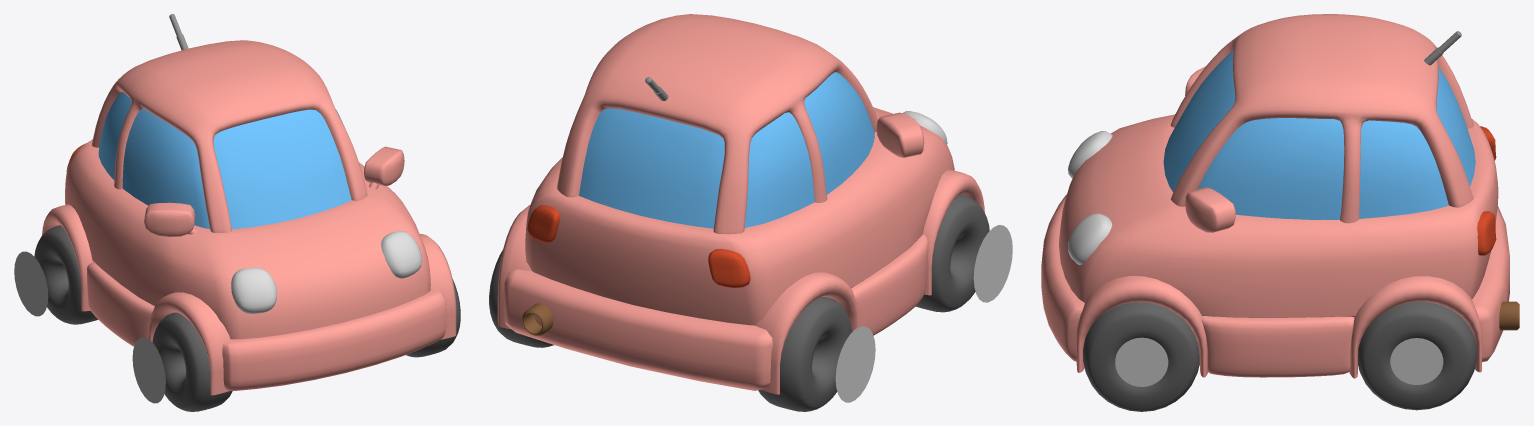
The model's file is car.gltf.
3 views of the same model, side by side, from view 1: azimuth 30°, elevation 25°; view 2: azimuth 150°, elevation 25°; view 3: azimuth 270°, elevation 25° (orthographic). The views are drawn at different scales.
Parts seen in each view (by area): view 1: body, crystal, up, details, pTorus4, pTorus5, lights_front, front_right, back_right, pDisc5, pDisc6, front_left (+3 smaller); view 2: body, up, crystal, details, pTorus5, pTorus4, back_right, lights_back, pDisc5, pDisc6, front_right, back_left (+3 smaller); view 3: body, up, crystal, details, pTorus3, pTorus2, front_left, back_left, lights_front, pDisc2, pDisc3, left (+2 smaller).
Boxes of the visible parts, left/top/right/bottom form: body: left=65, top=139, right=430, bottom=339; crystal: left=98, top=92, right=351, bottom=229; up: left=92, top=40, right=367, bottom=232; details: left=87, top=262, right=446, bottom=390; pTorus4: left=152, top=312, right=232, bottom=411; pTorus5: left=34, top=225, right=98, bottom=324; lights_front: left=231, top=231, right=422, bottom=313; front_right: left=148, top=292, right=230, bottom=395; back_right: left=42, top=204, right=92, bottom=311; pDisc5: left=132, top=337, right=165, bottom=403; pDisc6: left=14, top=251, right=48, bottom=316; front_left: left=419, top=234, right=456, bottom=339; body: left=525, top=107, right=954, bottom=325; up: left=557, top=14, right=877, bottom=234; crystal: left=579, top=72, right=874, bottom=228; details: left=504, top=234, right=928, bottom=390; pTorus5: left=758, top=296, right=852, bottom=411; pTorus4: left=916, top=194, right=989, bottom=312; back_right: left=755, top=272, right=859, bottom=394; lights_back: left=527, top=205, right=750, bottom=288; pDisc5: left=973, top=225, right=1012, bottom=302; pDisc6: left=835, top=326, right=875, bottom=402; front_right: left=922, top=169, right=984, bottom=295; back_left: left=497, top=205, right=531, bottom=329; body: left=1059, top=114, right=1498, bottom=317; up: left=1171, top=14, right=1473, bottom=223; crystal: left=1163, top=50, right=1475, bottom=219; details: left=1041, top=194, right=1509, bottom=377; pTorus3: left=1358, top=301, right=1476, bottom=410; pTorus2: left=1083, top=302, right=1199, bottom=411; front_left: left=1076, top=276, right=1207, bottom=377; back_left: left=1349, top=276, right=1482, bottom=378; lights_front: left=1068, top=131, right=1112, bottom=264; pDisc2: left=1115, top=337, right=1168, bottom=386; pDisc3: left=1390, top=338, right=1443, bottom=384; left: left=1185, top=187, right=1235, bottom=232.
Bounding box in the file's own units: 0.7682 × 0.6632 × 0.9244.
